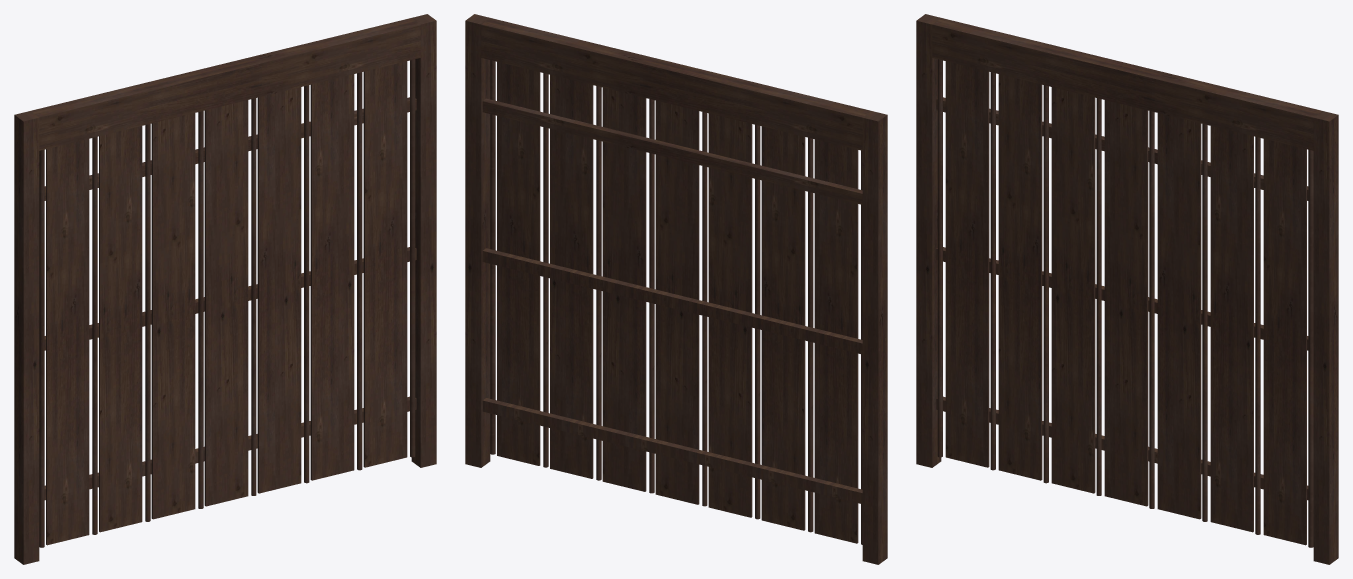
Rendered from ESyamatobei_h2000_darkpine.fbx.
3 views of the same model, side by side, from view 1: azimuth 30°, elevation 25°; view 2: azimuth 150°, elevation 25°; view 3: azimuth 330°, elevation 25° (orthographic).
Visible parts, largest first — view 1: ESyamatobei_h2000_darkpine; view 2: ESyamatobei_h2000_darkpine; view 3: ESyamatobei_h2000_darkpine.
Boxes of the visible parts, left/top/right/bottom form: ESyamatobei_h2000_darkpine: left=14, top=14, right=436, bottom=564; ESyamatobei_h2000_darkpine: left=465, top=14, right=887, bottom=564; ESyamatobei_h2000_darkpine: left=916, top=14, right=1338, bottom=564.
Size of the model in its own units: 195 by 200 by 7.5.
Materials: 1 (1 with a texture image).
